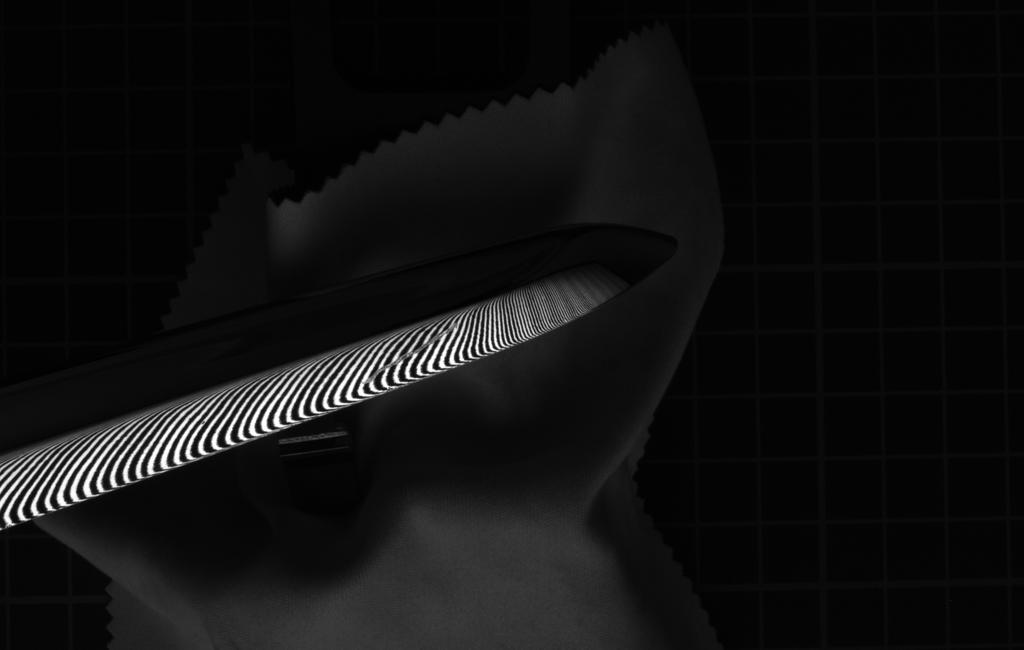Scratch: (352, 316, 469, 387)
